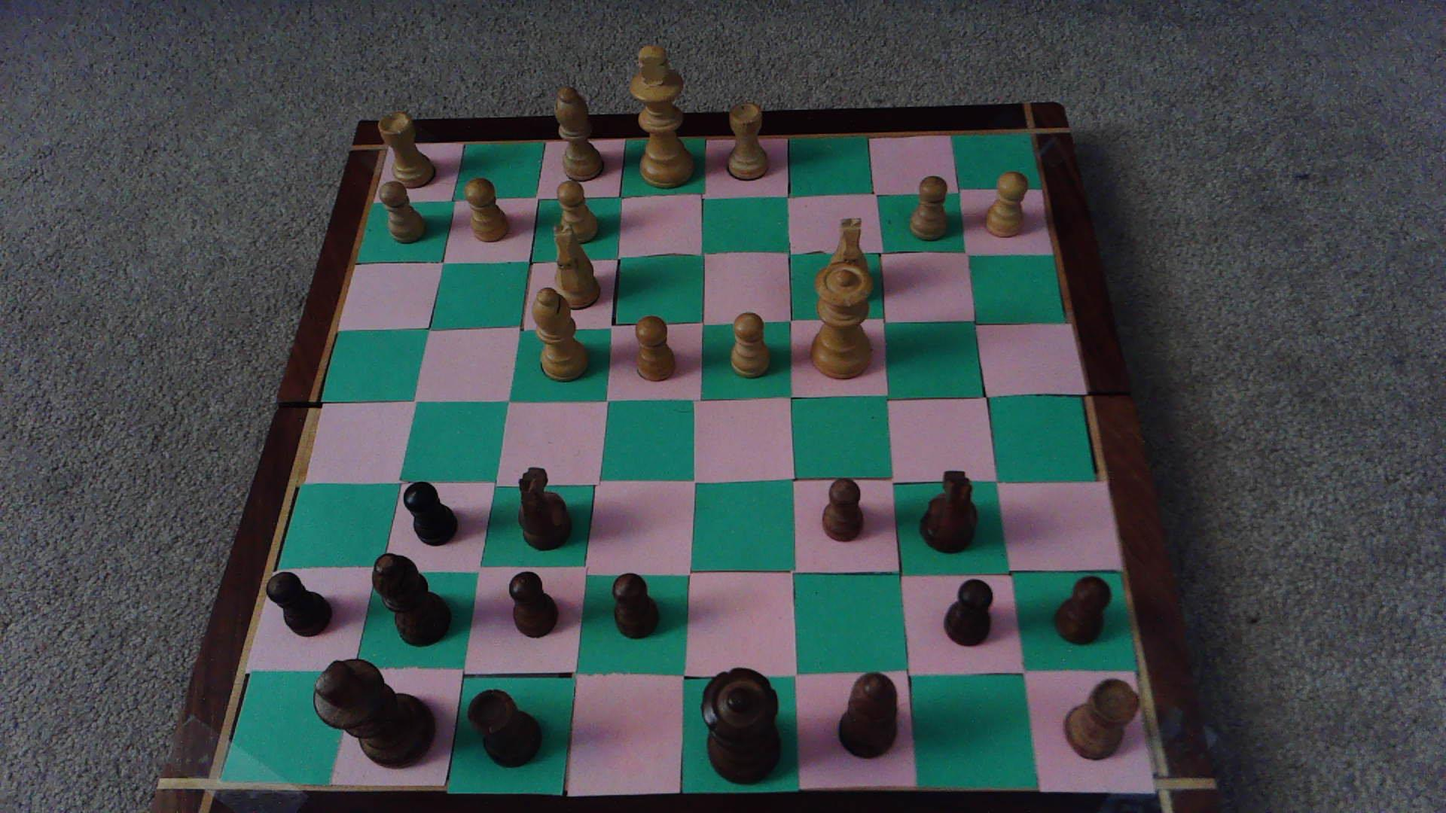dark_piece: (313, 659, 434, 766), (701, 668, 780, 784), (373, 553, 452, 646), (1064, 679, 1139, 760), (468, 690, 541, 767), (838, 672, 898, 758), (920, 471, 976, 553), (519, 467, 572, 550), (266, 571, 330, 636), (1054, 576, 1111, 643), (402, 482, 457, 545), (508, 571, 558, 638), (944, 579, 992, 646), (612, 573, 658, 638), (822, 477, 863, 541)
white_piece: (630, 45, 694, 187), (811, 263, 875, 380), (530, 287, 588, 381), (553, 86, 605, 181), (823, 217, 873, 308), (378, 114, 435, 188), (552, 225, 600, 309), (727, 102, 767, 180), (378, 181, 425, 242), (465, 178, 508, 242), (557, 181, 600, 244), (987, 172, 1027, 237), (636, 315, 675, 381), (731, 312, 770, 378), (910, 176, 947, 241)
